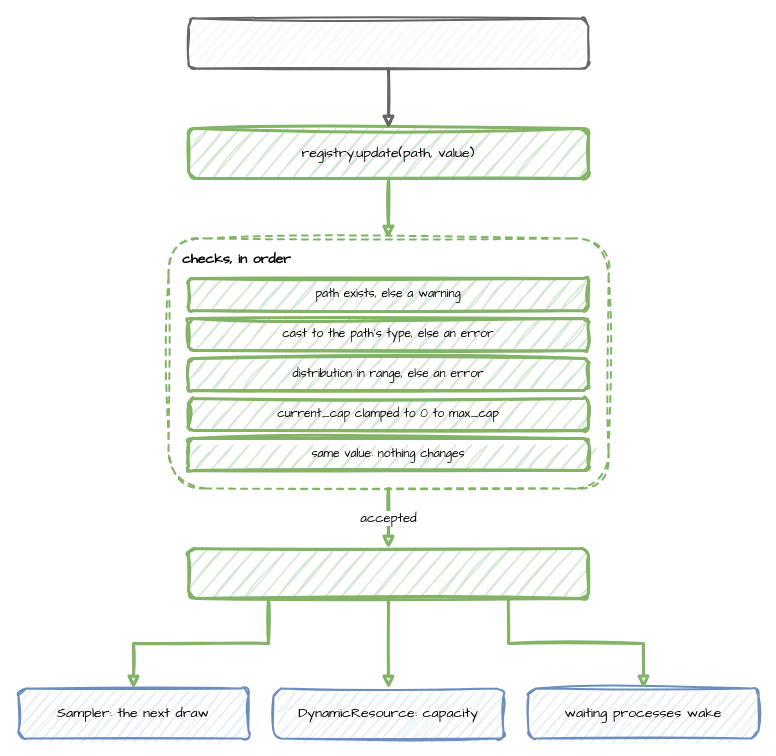
This 776x756 diagram has some shape labels left out. The shapes that lost their labels are listed below. From the top down, each one's centre as x and y in pixels, then its label:
At point (388, 43): "an ingress connector, a scenario or a process".
At point (388, 573): "stores the value and updates the parameter's config".
